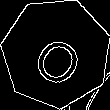O_NE: (24, 20, 88, 86)
